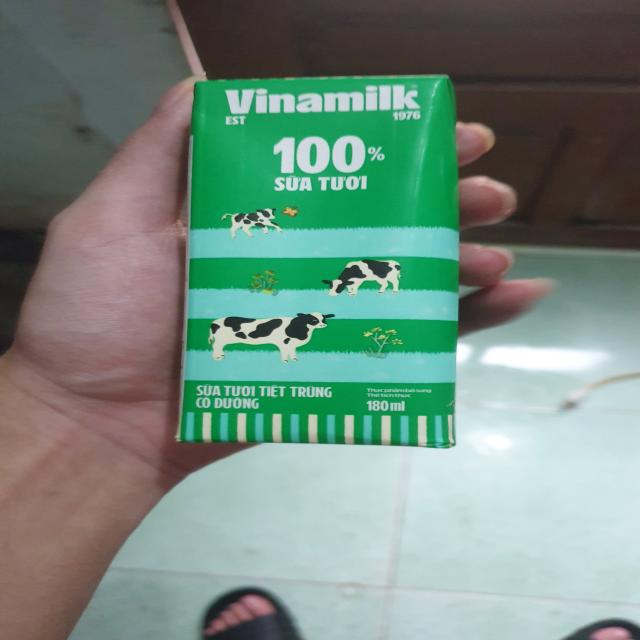Vina: (176, 74, 467, 447)
